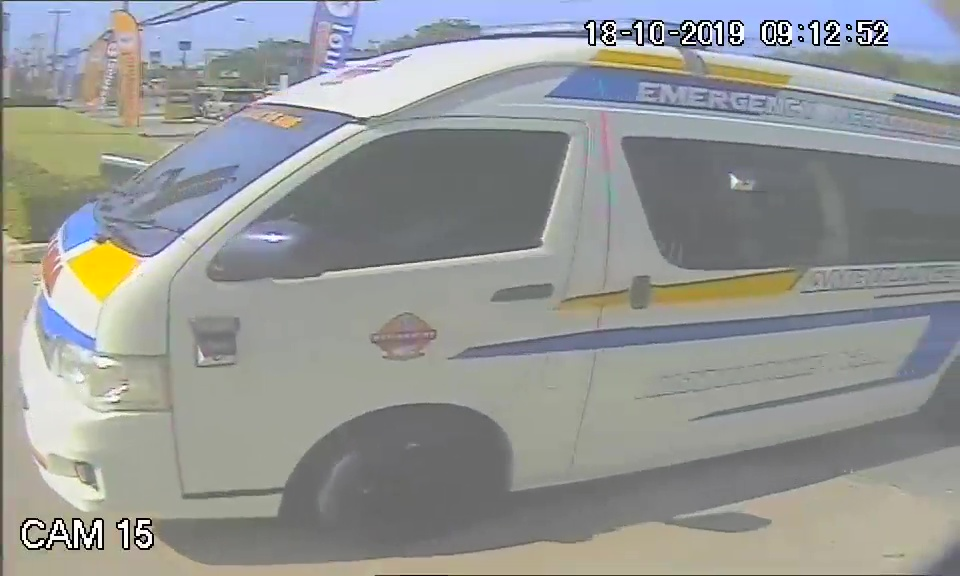van: (15, 28, 956, 536)
